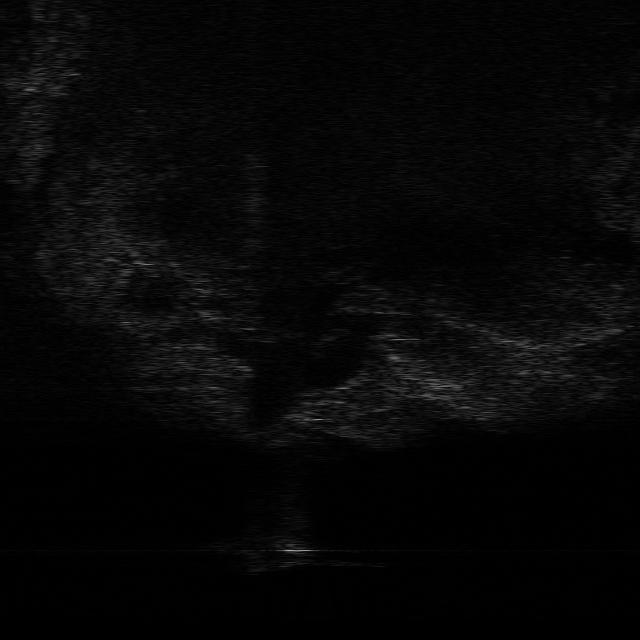plane: (220, 534, 385, 575)
